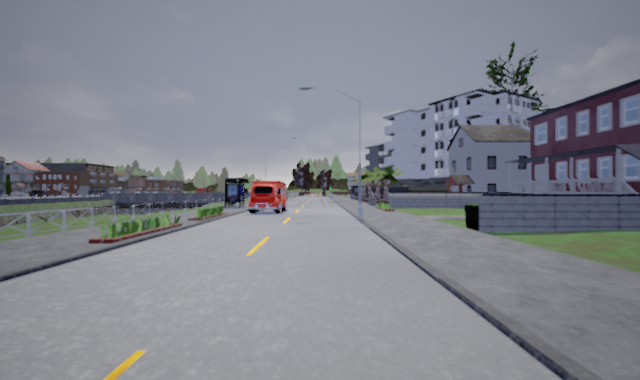vehicle: (242, 179, 288, 215)
